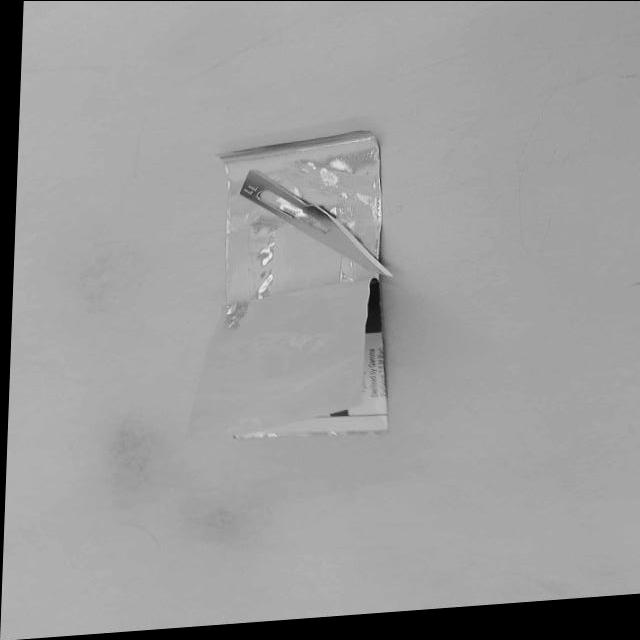General: (213, 128, 393, 443)
Infectious: (365, 277, 381, 333)
Sharps: (230, 276, 388, 441), (238, 169, 394, 278), (231, 412, 388, 441)
